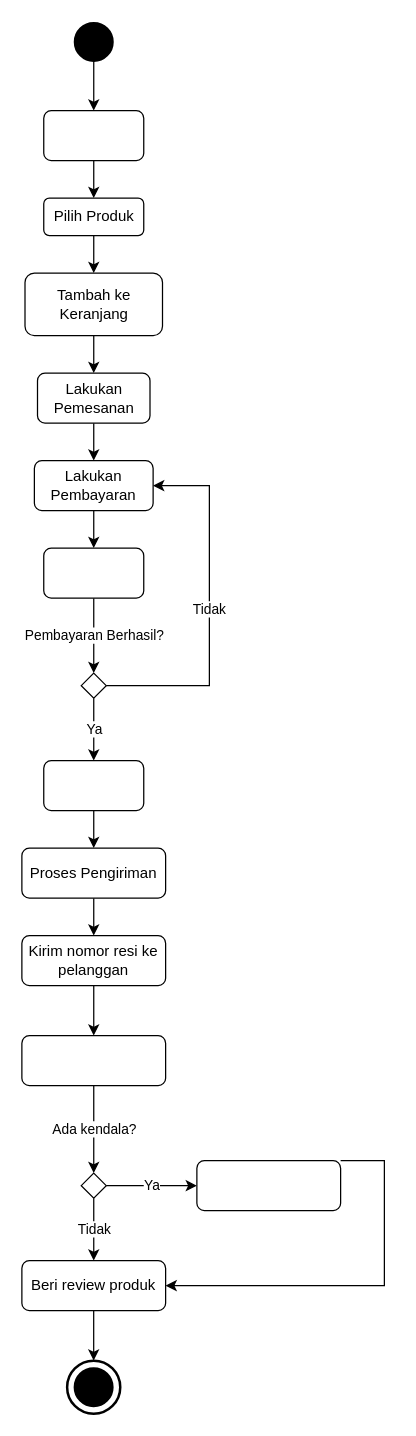
Some shapes in this 416 by 1436 pixel diagram are drawn without their labels. Here are the shapes that lost their labels. From the top down, the centre of each, then its label:
At pixel 93 135: "Registrasi akun / login".
At pixel 93 572: "Verifikasi Pembayaran".
At pixel 93 785: "Notifikasi ke penjual".
At pixel 93 1060: "Pesanan selesai".
At pixel 268 1185: "Ajukan refund / komplain".
